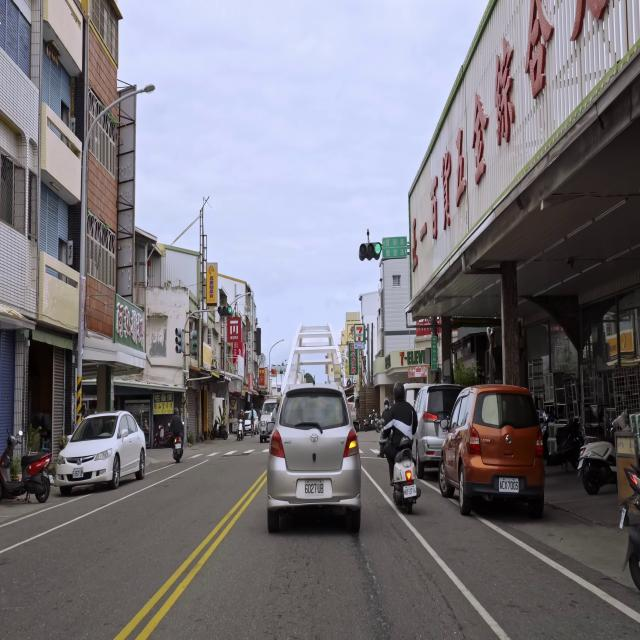green light: (358, 242, 382, 256), (216, 306, 232, 316)
